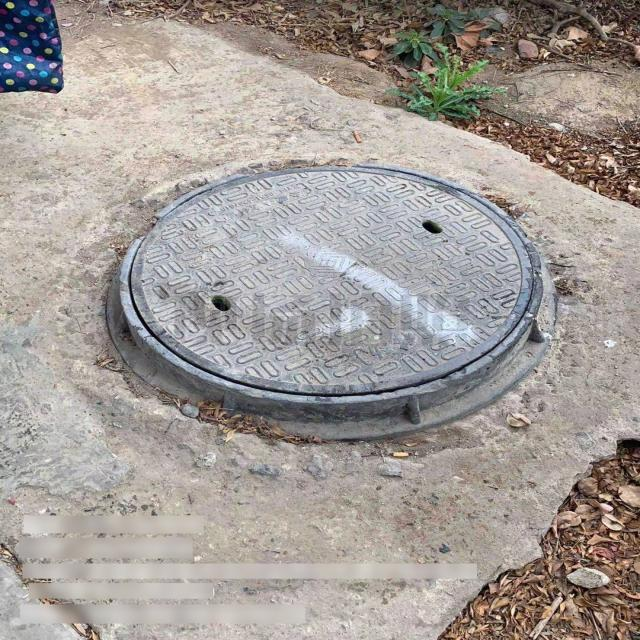Good: (117, 166, 542, 404)
